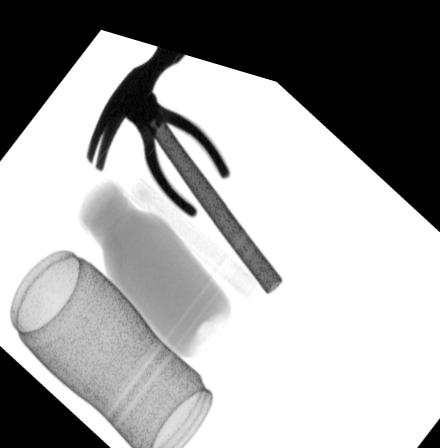Hammer: (84, 36, 282, 278)
Pliers: (112, 72, 229, 204)
